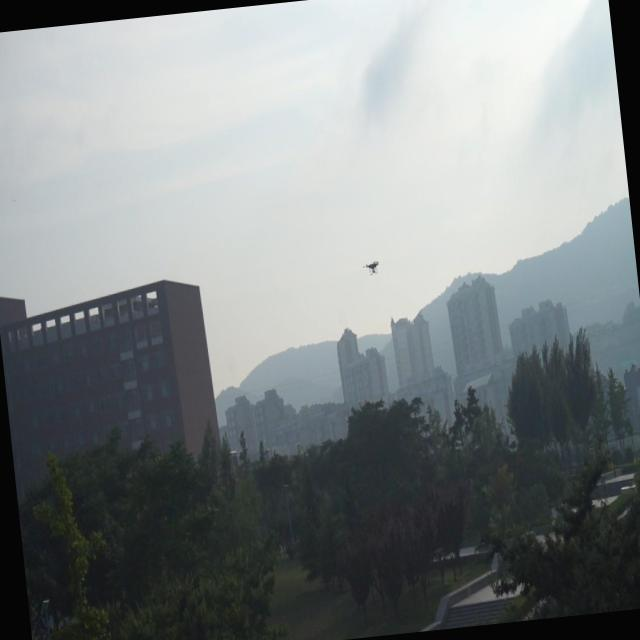drone: (361, 256, 382, 280)
